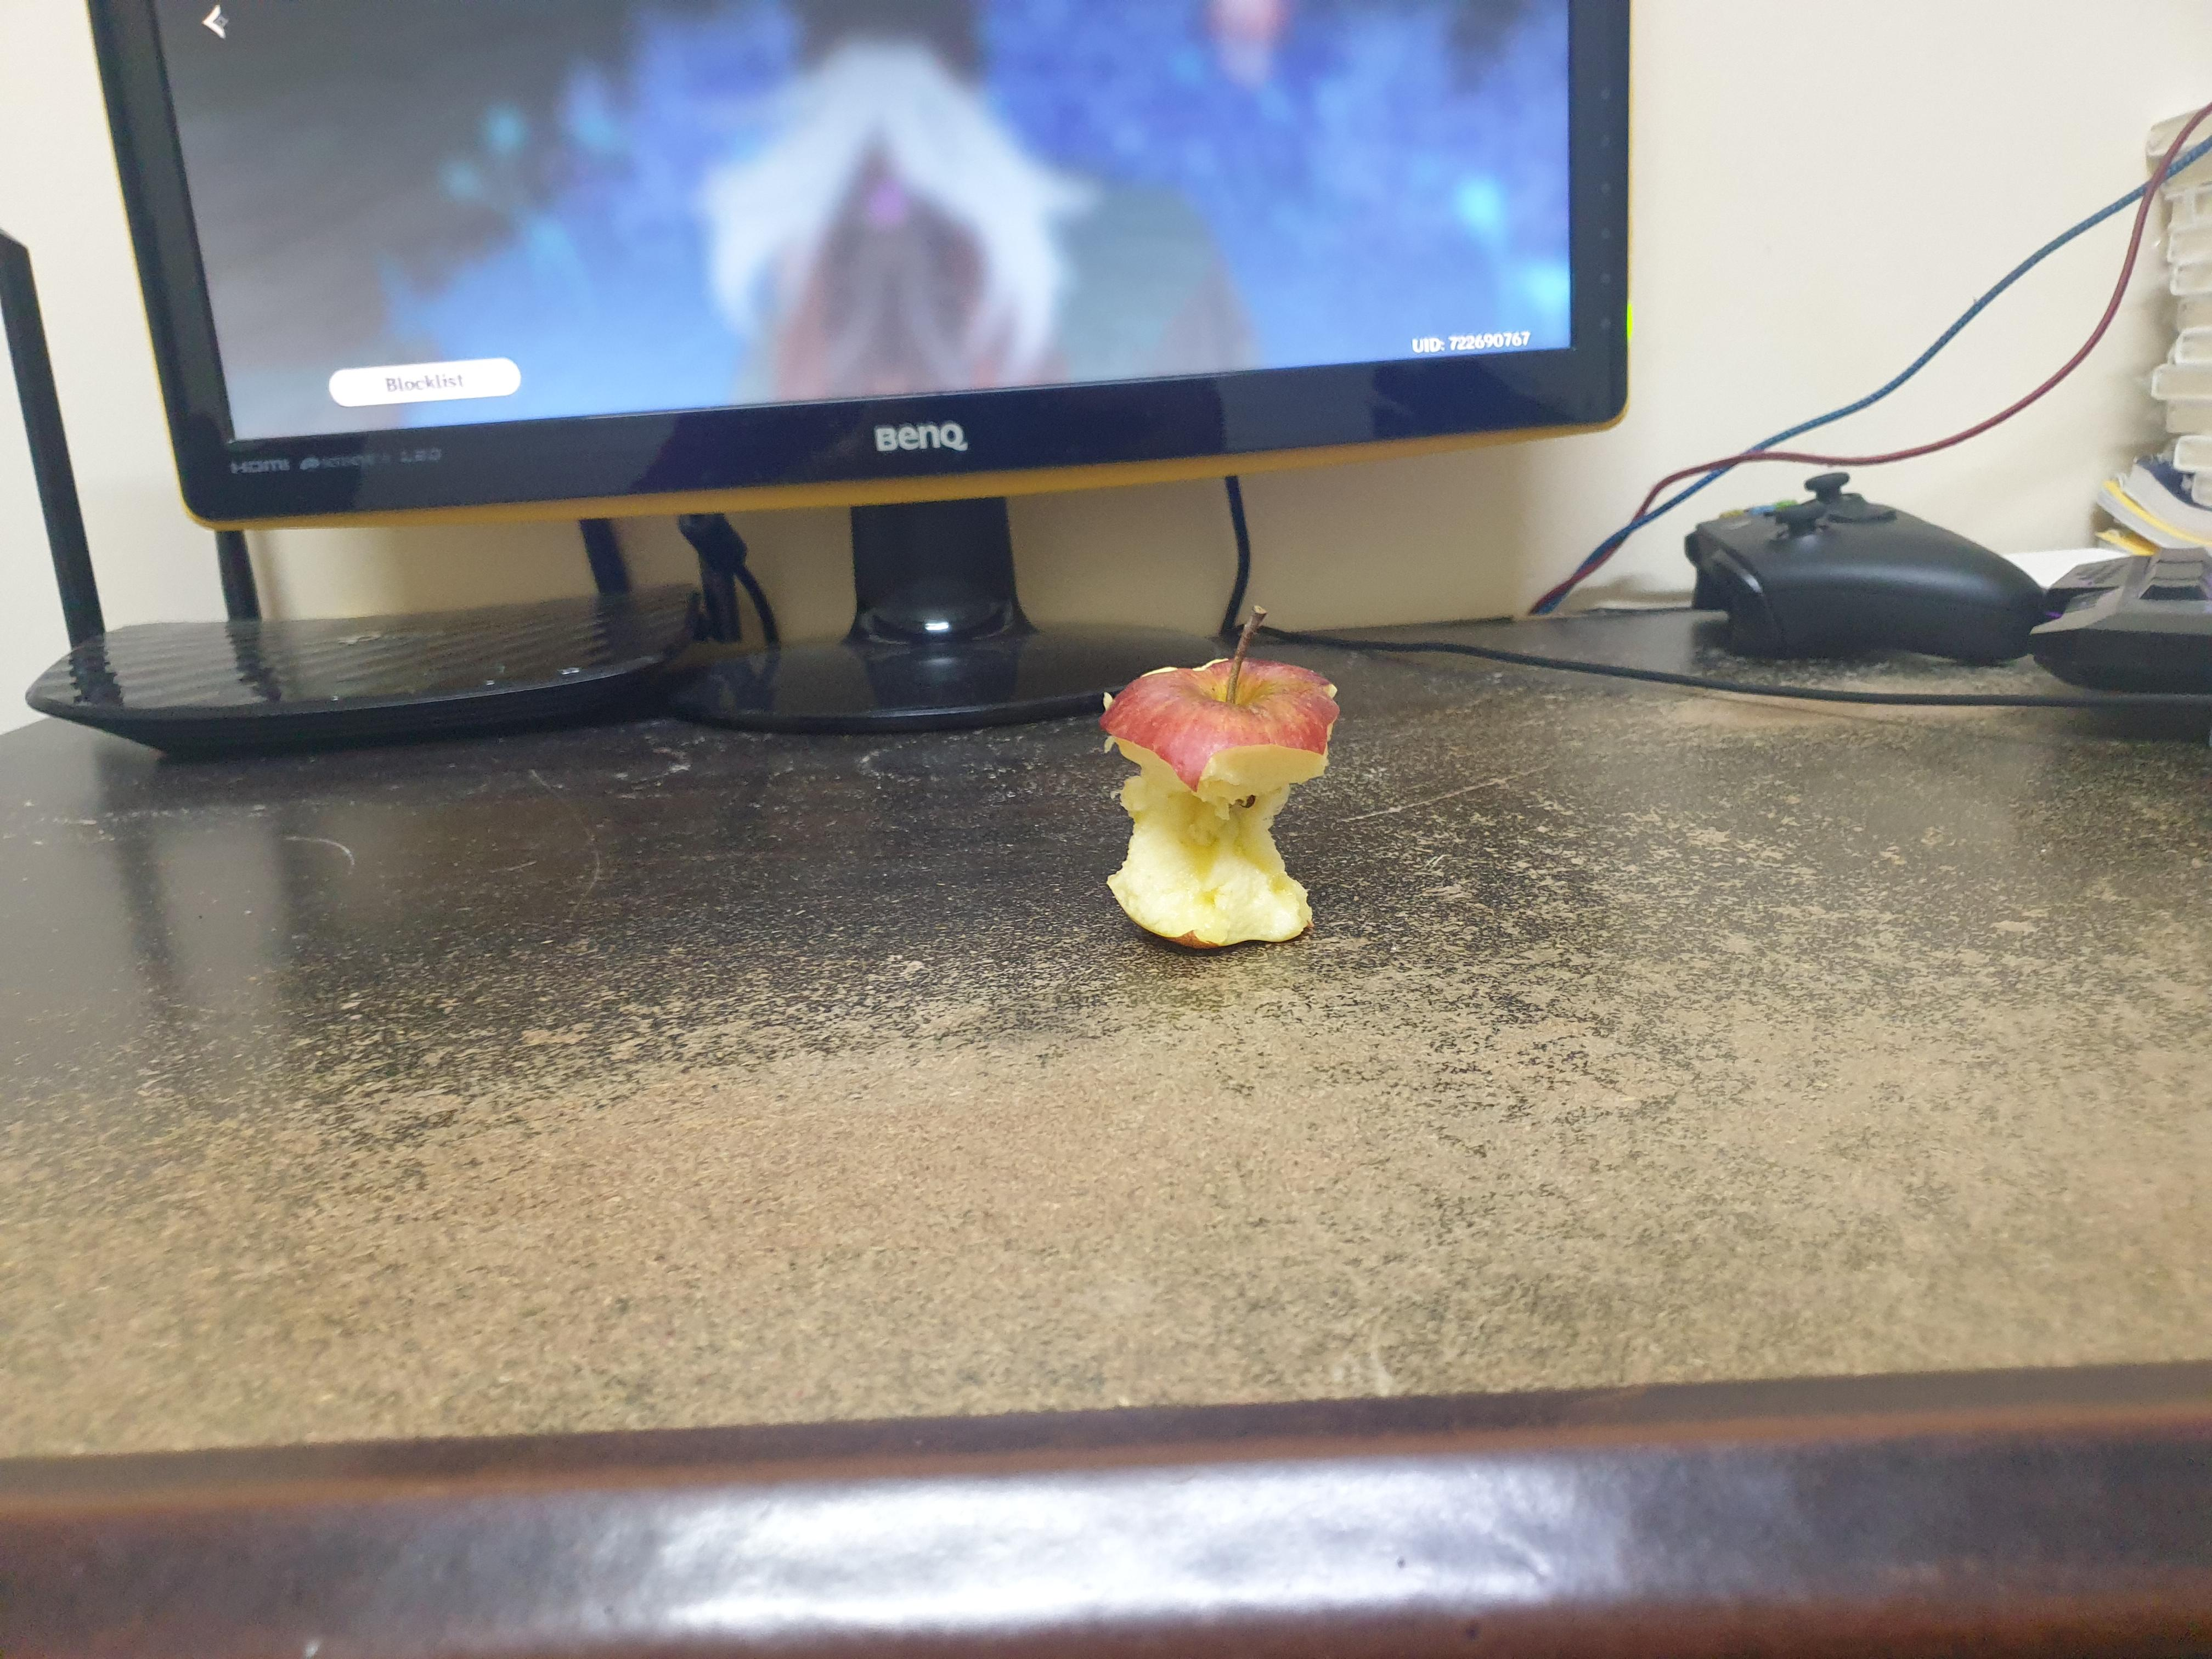Apple: (1094, 587, 1395, 992)
